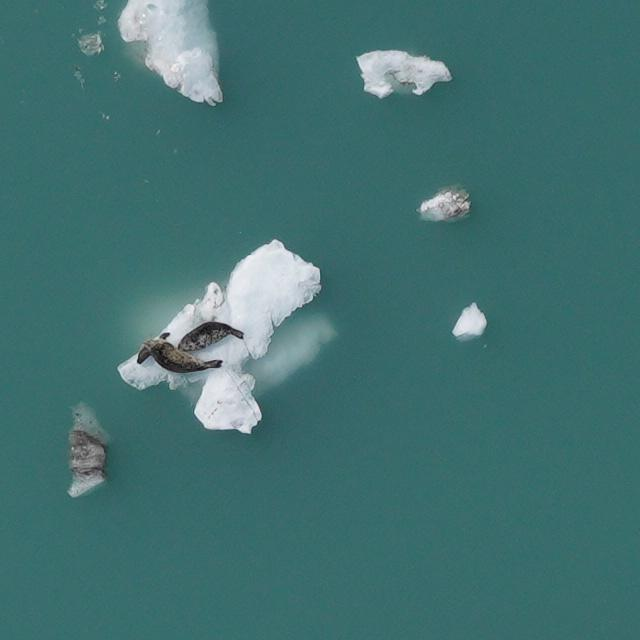seal: (135, 326, 227, 390), (174, 314, 244, 355)
